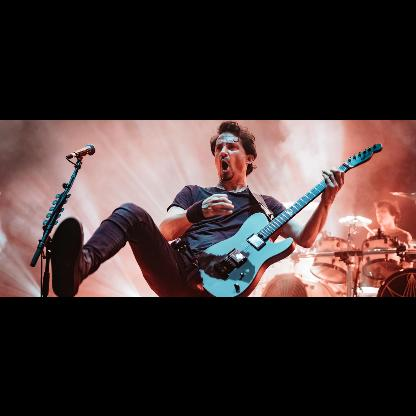guitar: (193, 142, 382, 296)
